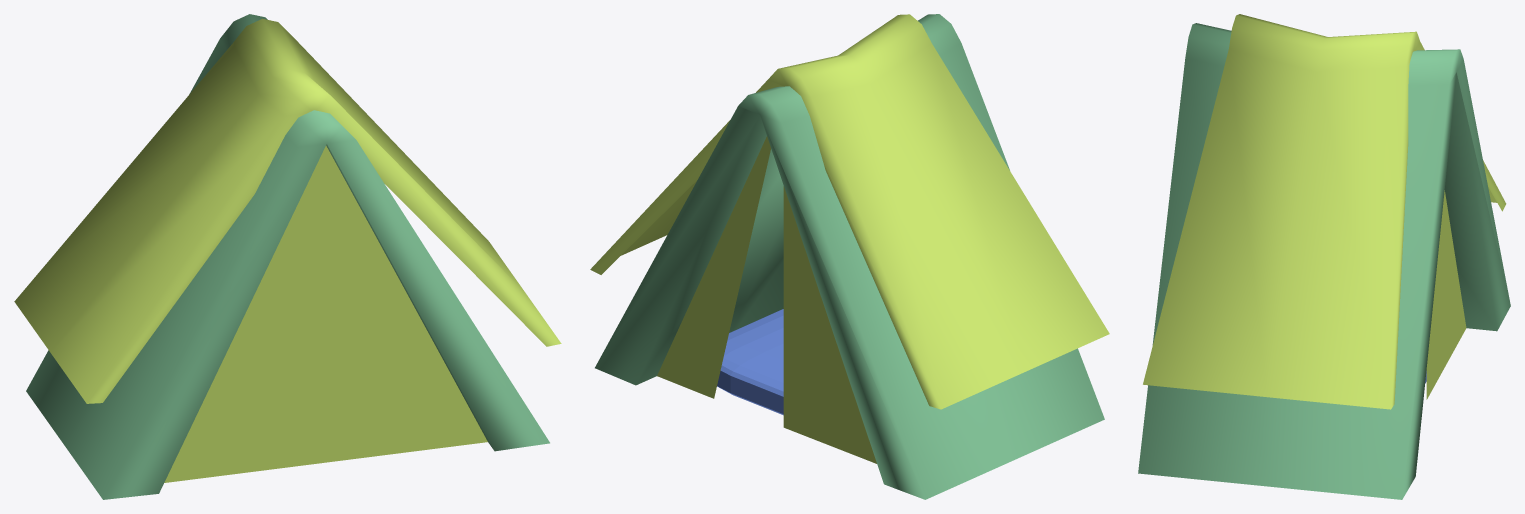
Rendered from tentgreen.glb.
The picture shows the model from 3 angles, left to right: view 1: azimuth 30°, elevation 25°; view 2: azimuth 150°, elevation 25°; view 3: azimuth 270°, elevation 25°; orthographic projection. The views are drawn at different scales.
Parts seen in each view (by area): view 1: tent3; view 2: tent3; view 3: tent3.
Part boxes in pixels (left/top/right/bottom): tent3: left=14, top=14, right=561, bottom=499; tent3: left=590, top=14, right=1109, bottom=499; tent3: left=1138, top=14, right=1510, bottom=499.
Size of the model in its own units: 4.02 by 2.99 by 2.75.
